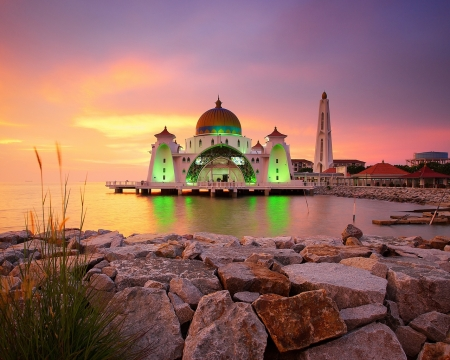Mosque: (140, 86, 340, 195)
